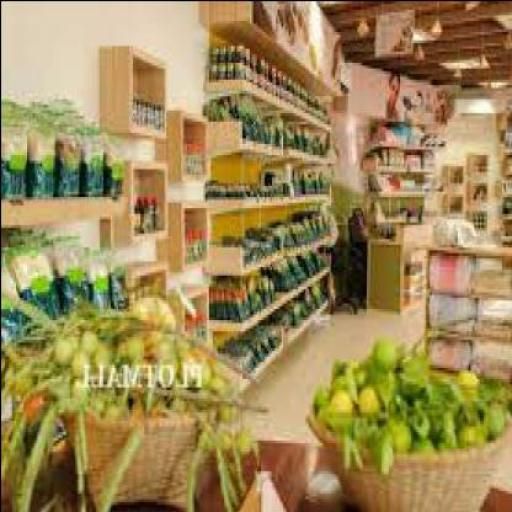biodegradable: (2, 300, 260, 414), (2, 398, 61, 510), (2, 387, 275, 411), (2, 392, 57, 510), (100, 423, 142, 509), (130, 291, 178, 331), (217, 450, 241, 510), (373, 420, 399, 470), (76, 406, 91, 489), (186, 445, 205, 509), (371, 335, 403, 370), (432, 406, 457, 448), (426, 372, 458, 400), (354, 384, 382, 414), (343, 425, 363, 467), (395, 372, 428, 397), (330, 364, 358, 392), (455, 392, 484, 419), (455, 364, 482, 392), (394, 409, 413, 448), (477, 381, 510, 403), (411, 397, 430, 434), (52, 333, 74, 364), (26, 386, 44, 423), (483, 402, 502, 437), (460, 417, 486, 442), (332, 384, 356, 411), (334, 353, 360, 377), (402, 353, 428, 377), (196, 352, 214, 386), (320, 398, 342, 424), (70, 347, 91, 374), (94, 336, 112, 367), (156, 336, 178, 361), (373, 372, 397, 394), (128, 330, 145, 360), (182, 346, 195, 381), (356, 358, 373, 383), (312, 381, 330, 403), (201, 425, 219, 445), (115, 330, 127, 360), (83, 325, 97, 349), (412, 433, 432, 448), (237, 428, 250, 445), (223, 428, 235, 442)
